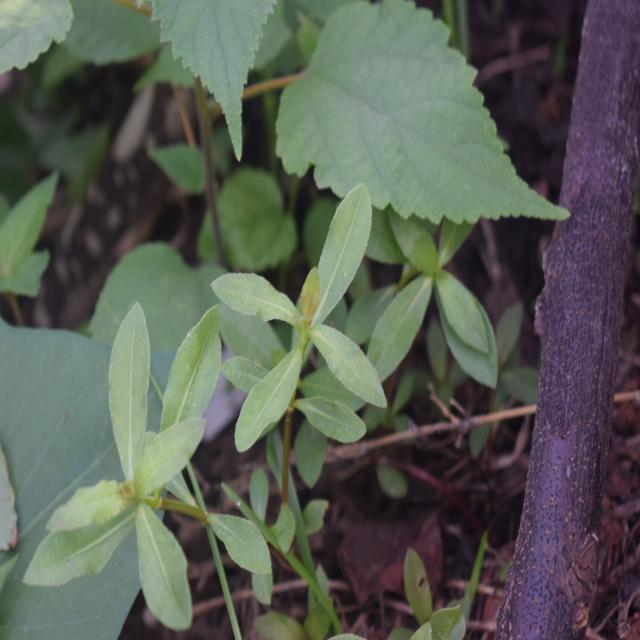Alligatorweed: (37, 306, 264, 622), (204, 171, 403, 465)
